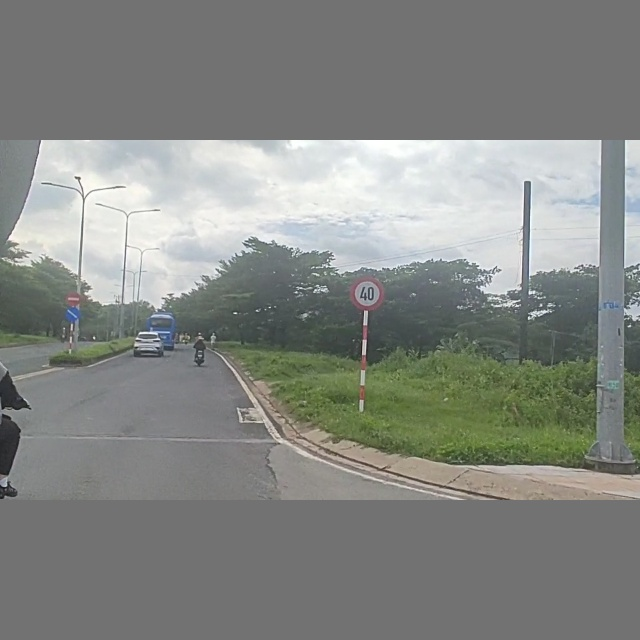P.102: (62, 289, 83, 307)
P.127*40: (350, 275, 388, 311)
R.302a: (62, 305, 81, 323)
